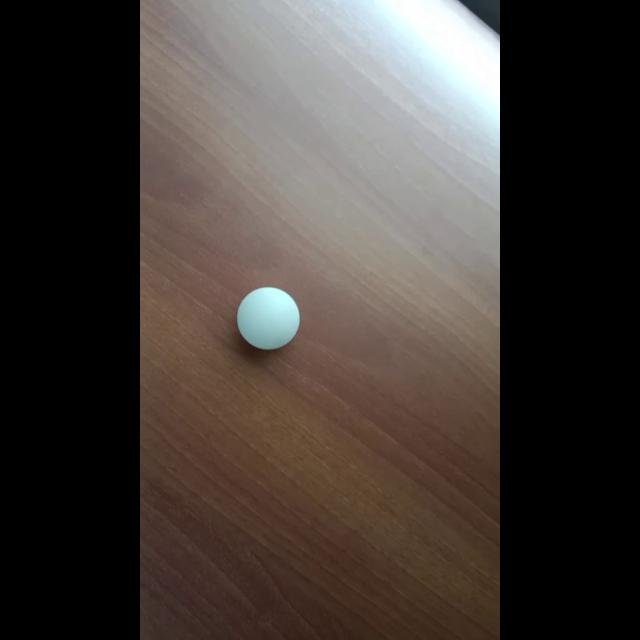white ball: (236, 286, 300, 350)
